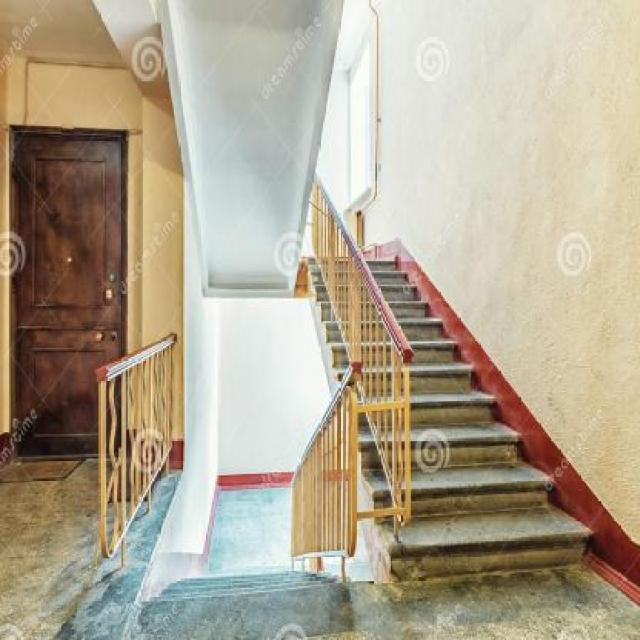stair: (306, 144, 617, 591), (151, 492, 347, 639)
